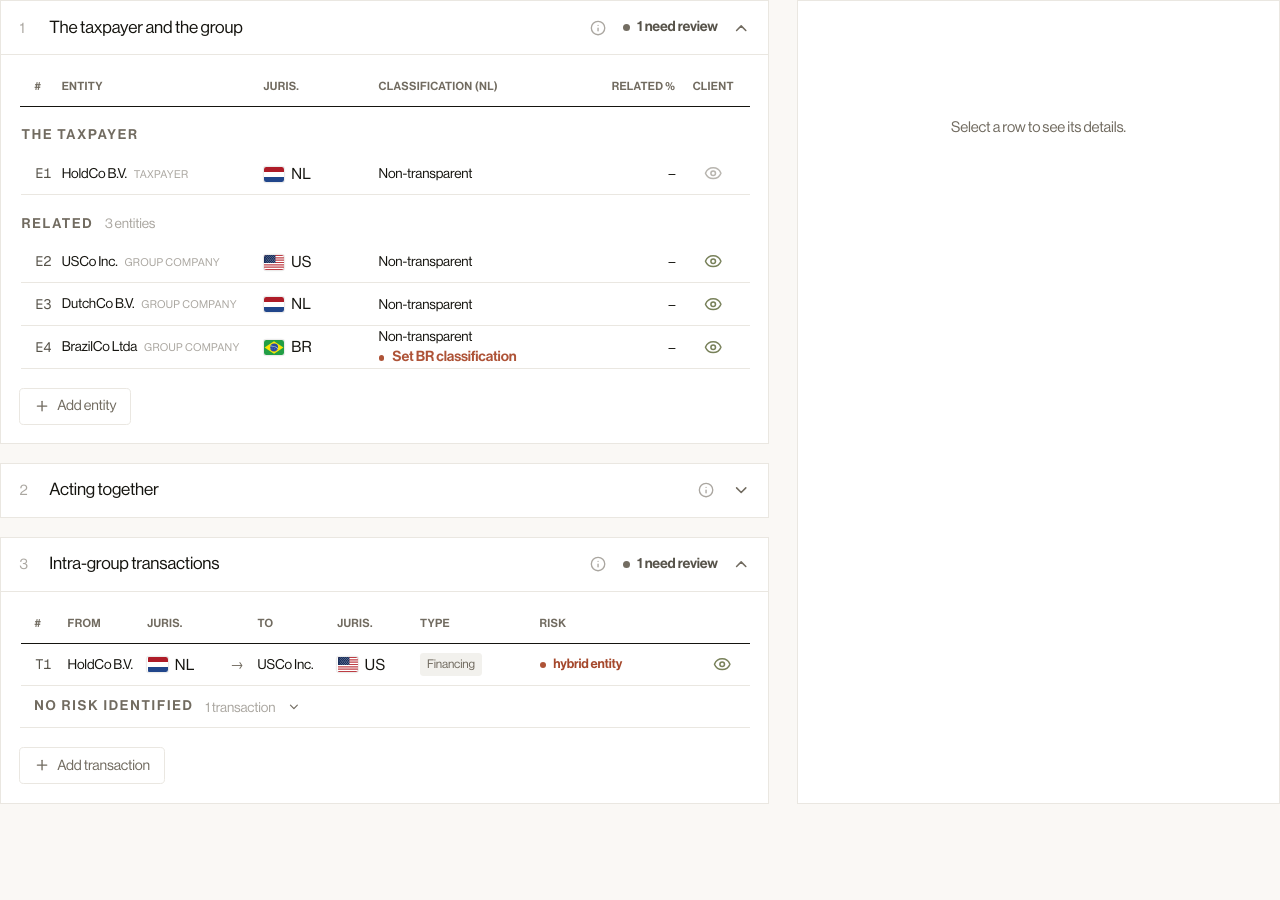
Test: FactsPanelV2 — resting state + master-detail (section 3) › closes the panel on Escape and clears selection
Click the button "T1 HoldCo B.V. NL → USCo Inc. US Financing hybrid entity" at (385, 664), box left=20, top=643, right=750, bottom=686
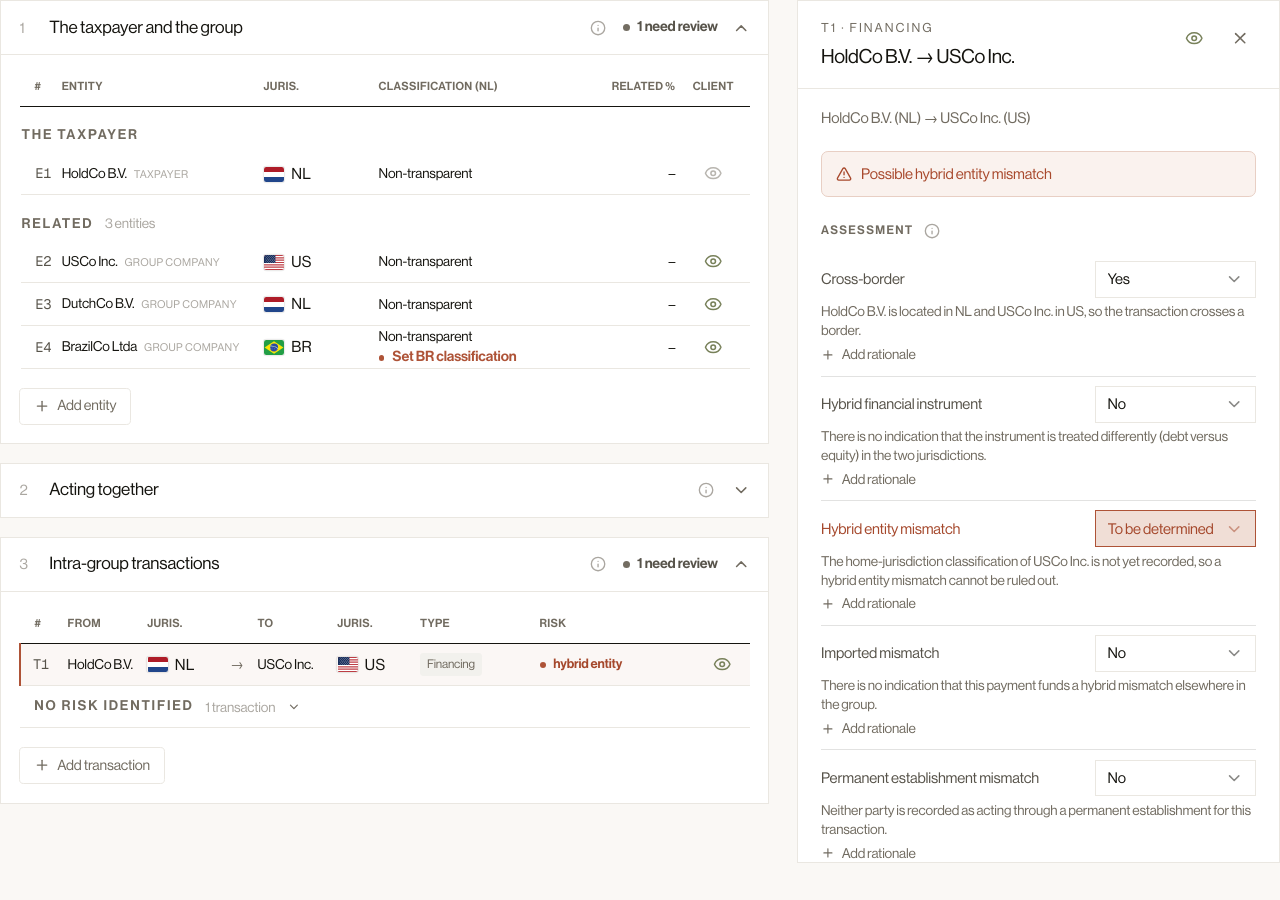
Now the text "Assessment" is shown, box left=821, top=222, right=914, bottom=240
Press Escape
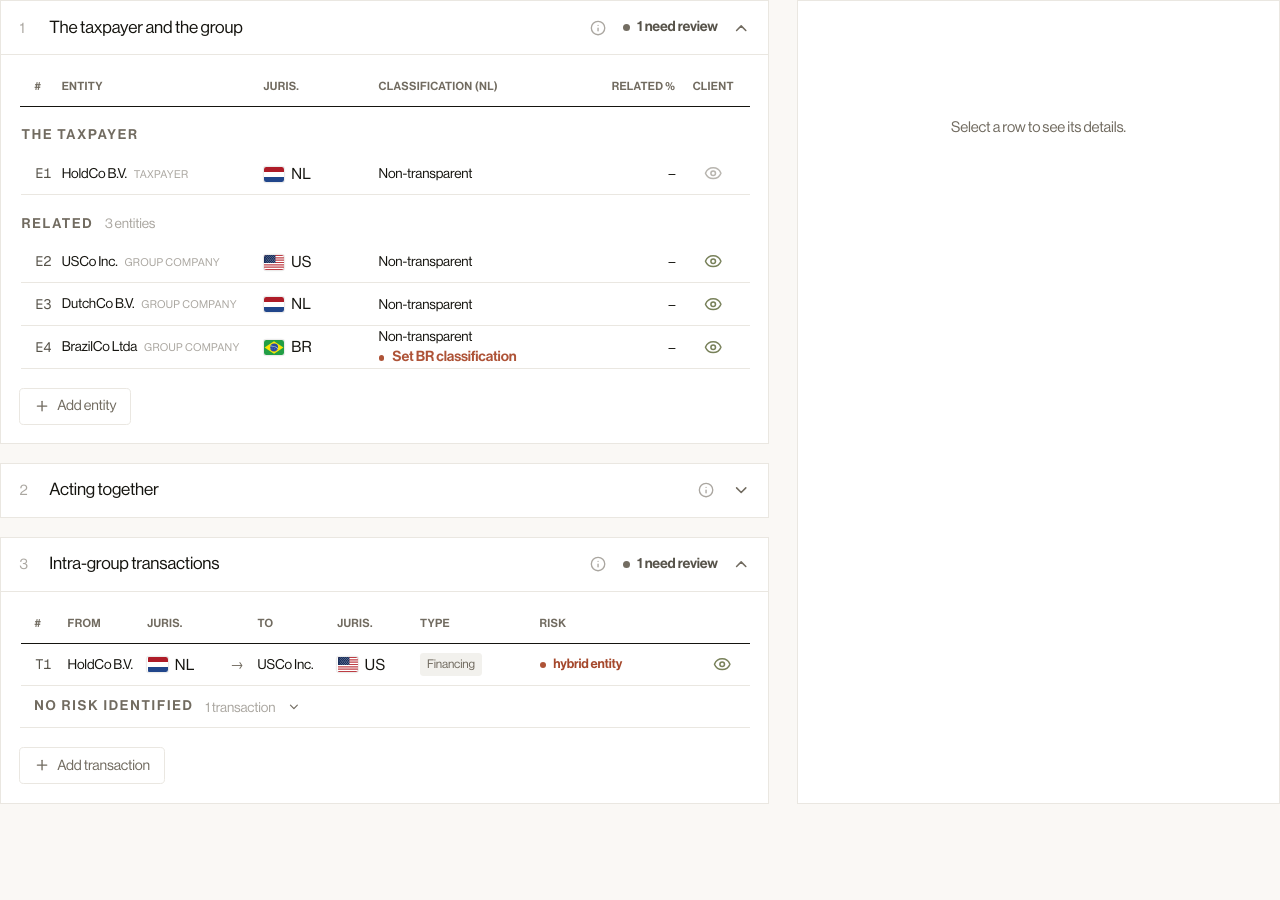
Now the text "Assessment" is gone
